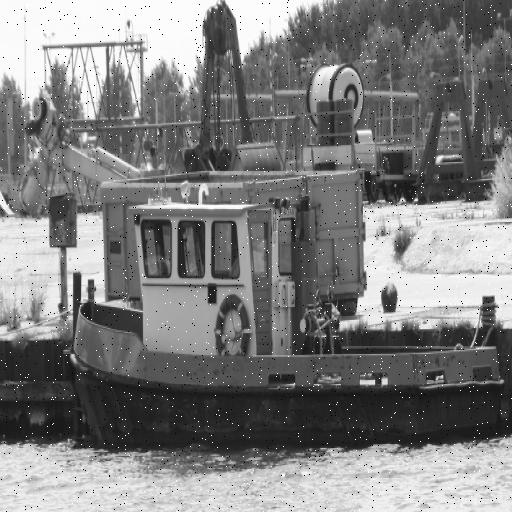tugboat: (62, 166, 509, 465)
